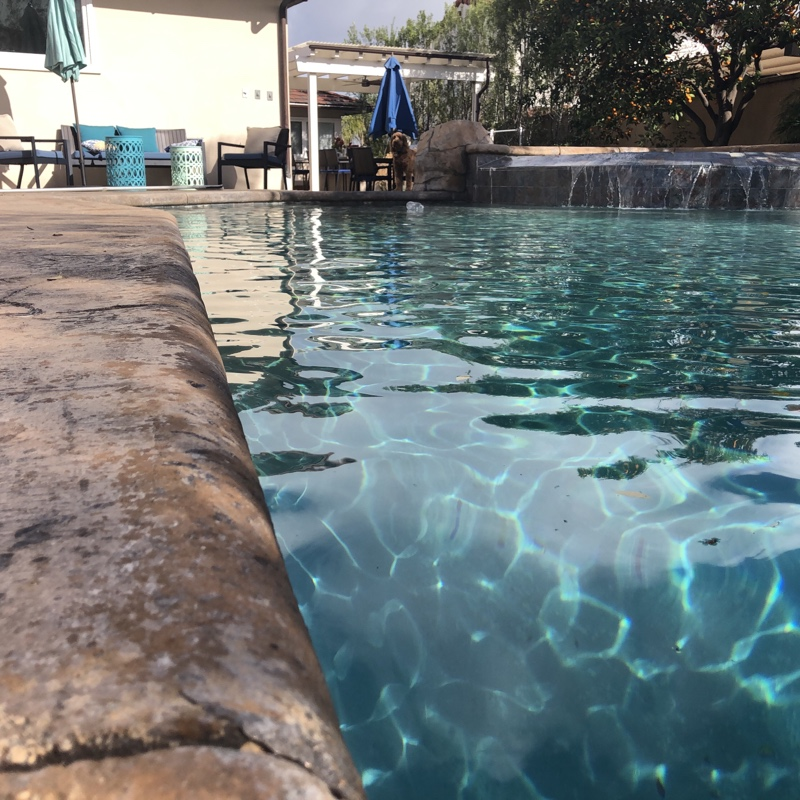Plastic Bottle: (403, 197, 424, 218)
